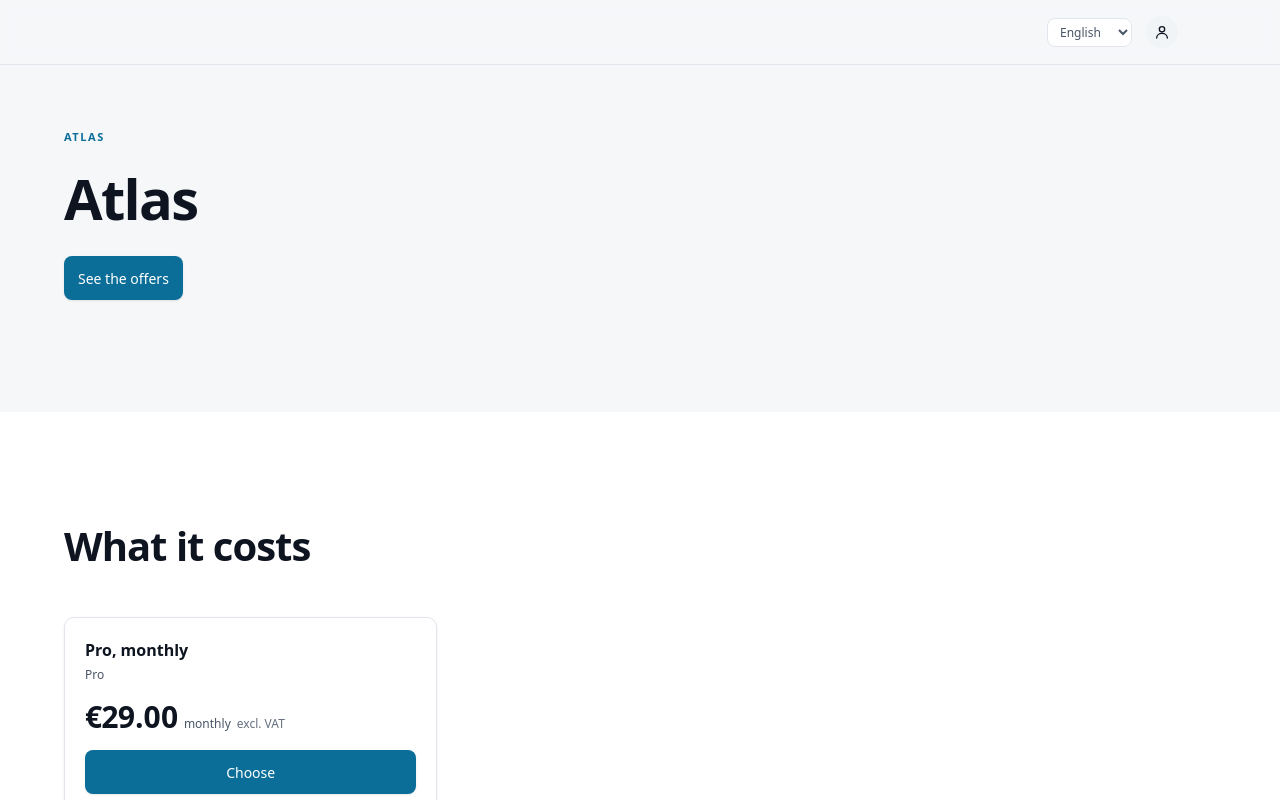
Test: choosing an offer › offers no door where there is no organisation to ask
The width and height of the screenshot is (1280, 800).
Click the button with test id "visitor-menu".
click(1162, 32)  # box 1140,10 -> 1184,54
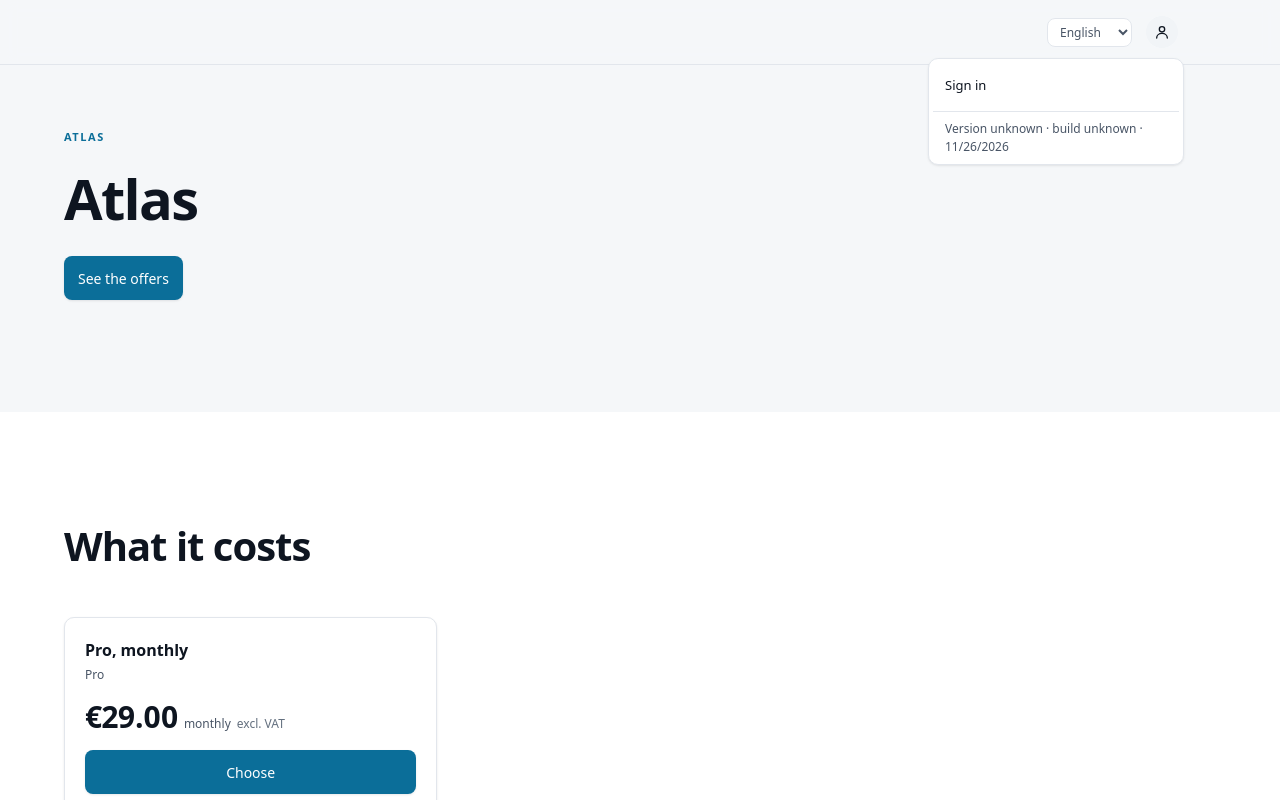
Expected: the menu item with test id "sign-in-link" is shown, 933,63 -> 1179,107
